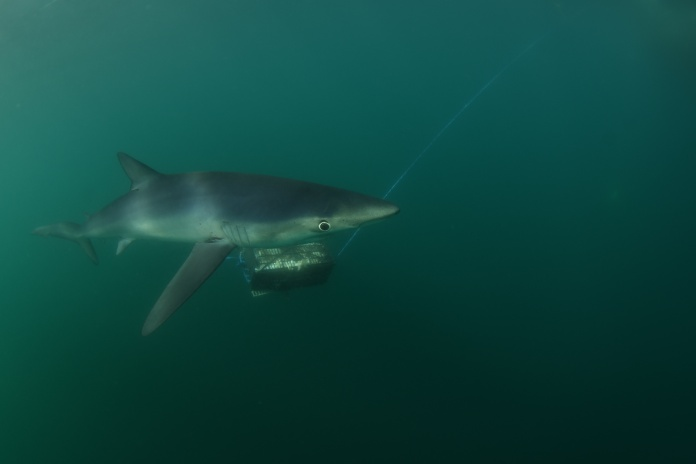Azul: (18, 142, 404, 345)
